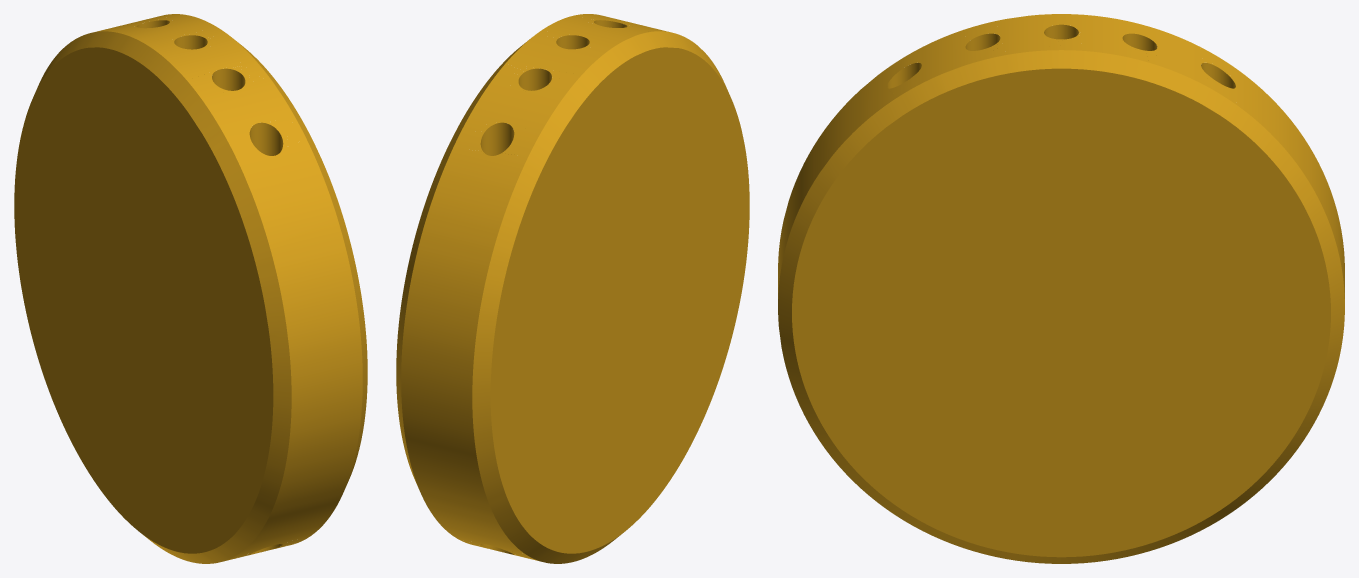
Rendered from takoz-rammer-e66-top-buffer-02.glb.
3 views of the same model, side by side, from view 1: azimuth 30°, elevation 25°; view 2: azimuth 150°, elevation 25°; view 3: azimuth 270°, elevation 25° (orthographic). The views are drawn at different scales.
Visible parts, largest first — view 1: body; view 2: body; view 3: body.
Part boxes in pixels (box(x1,y1,x2,y2)): body: box(14, 14, 367, 563); body: box(396, 14, 749, 563); body: box(778, 14, 1344, 563).
Size of the model in its own units: 0.065 by 0.325 by 0.325.
